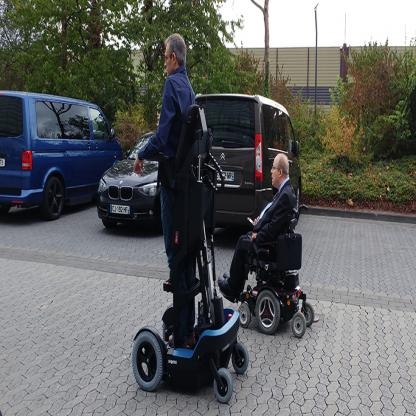wheelchair: (224, 152, 314, 340)
